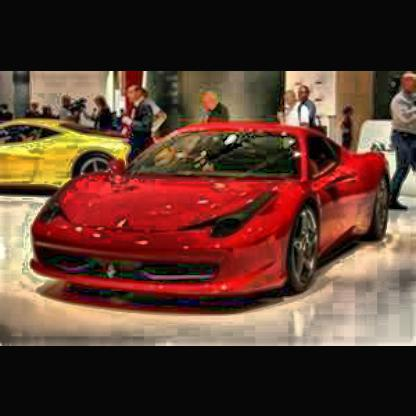Ferrari 458 Italia Coupe 2012: (25, 119, 396, 308)
